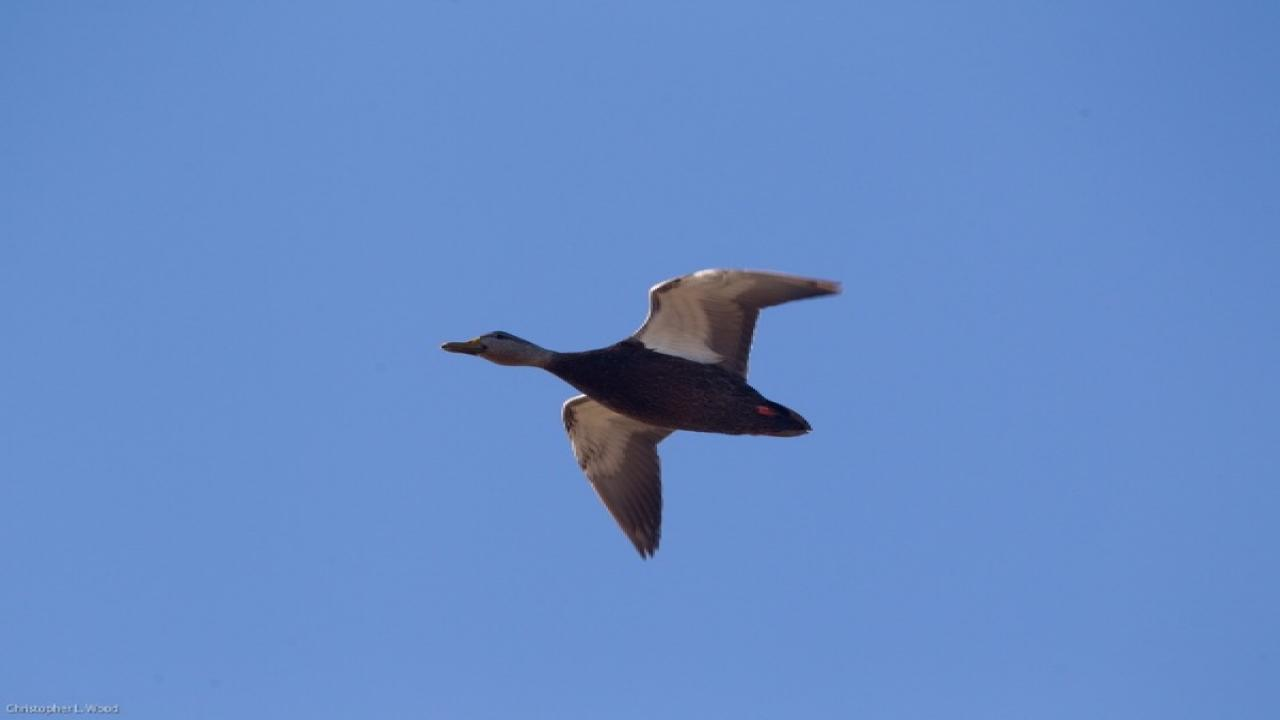Bird: (422, 255, 873, 572)
